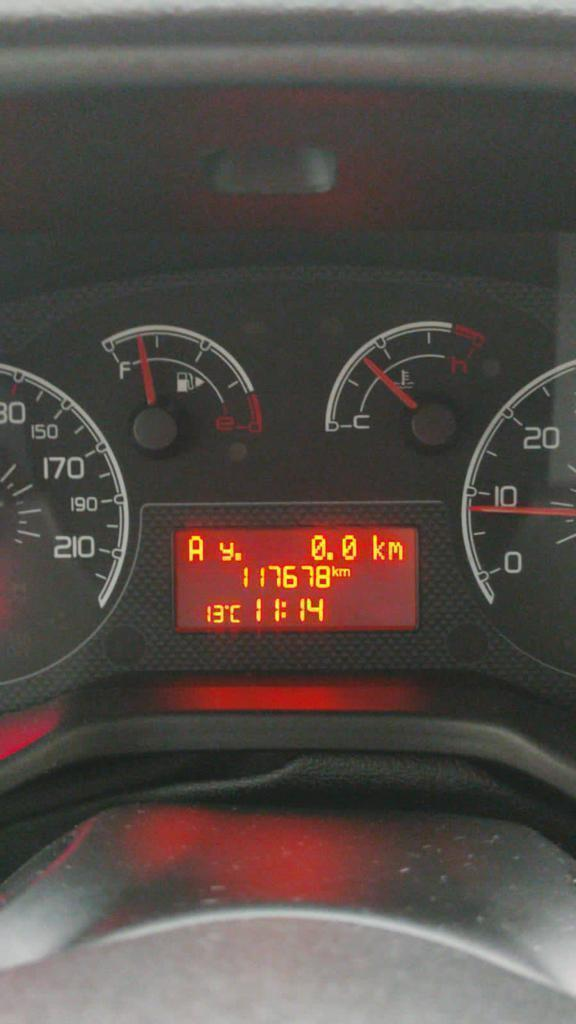,: (233, 550, 245, 562), (326, 550, 336, 561)
0: (341, 534, 357, 561), (310, 534, 326, 560)
1: (254, 596, 262, 625), (241, 565, 249, 591), (298, 596, 305, 624), (272, 596, 279, 624), (205, 603, 212, 625), (259, 565, 264, 590)
3: (212, 603, 223, 624)
4: (306, 596, 324, 623)
6: (282, 563, 297, 590)
7: (266, 564, 282, 589), (300, 563, 314, 588)
8: (315, 564, 330, 589)
X: (187, 533, 203, 562), (387, 539, 404, 562), (372, 533, 386, 560), (219, 540, 233, 561), (229, 603, 241, 624), (280, 598, 288, 621), (338, 567, 351, 578), (331, 563, 338, 578)
odometer: (171, 520, 427, 640)
